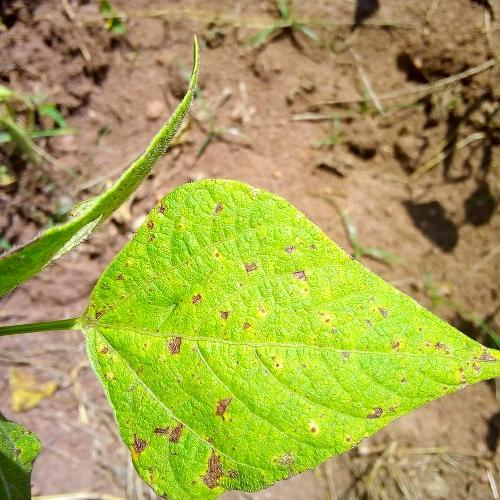hawar: (104, 226, 484, 496)
